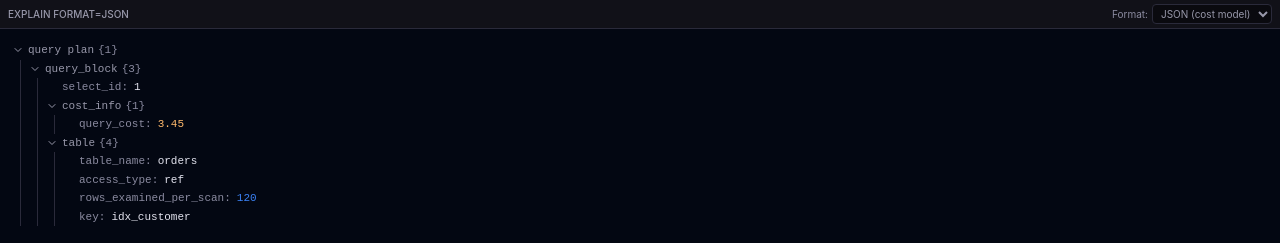
Scenario: plan formats (#424) › collapses a section of the plan when its header is clicked
The image size is (1280, 243).
What coordinates should you click on to do the following:
click the button "query_block {3}"
I would click on:
 (85, 69)
Its box is [29, 60, 141, 78].
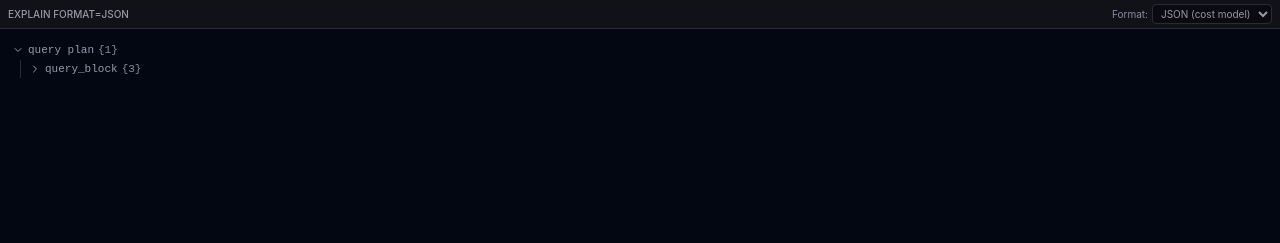
Now the button "query_block {3}" is collapsed, box [29, 60, 141, 78]
Now the text "orders" is gone
